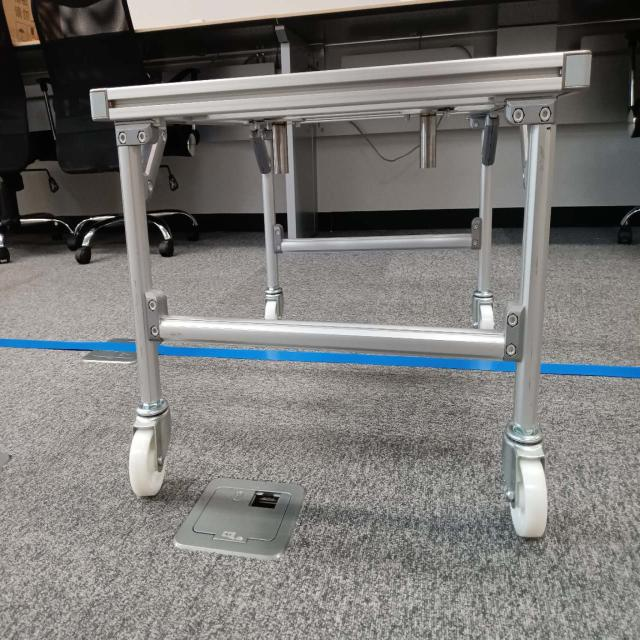side: (121, 55, 562, 363)
